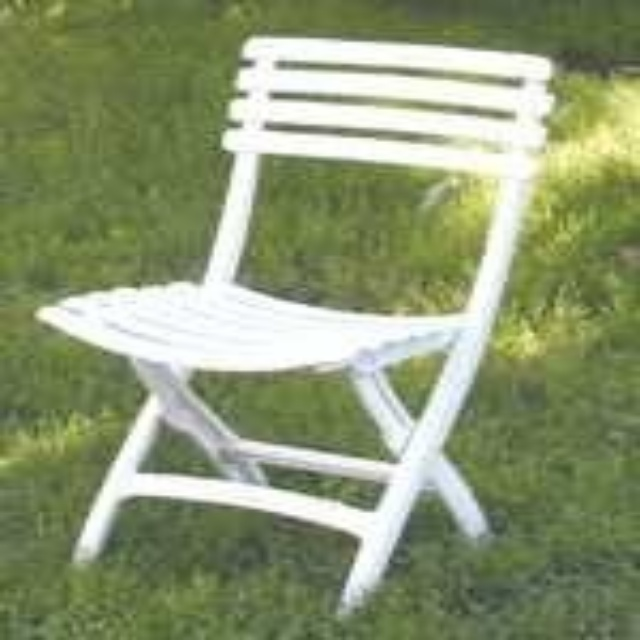obstacle: (38, 35, 546, 611)
